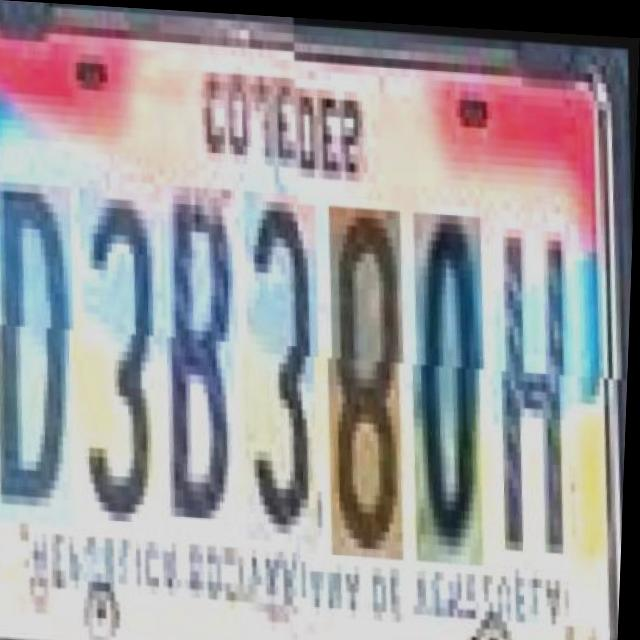3: (241, 187, 340, 540), (77, 187, 178, 530)
8: (325, 192, 424, 545)
b: (157, 182, 259, 535)
d: (0, 182, 93, 526)
h: (491, 202, 593, 555)
o: (411, 197, 505, 550)
